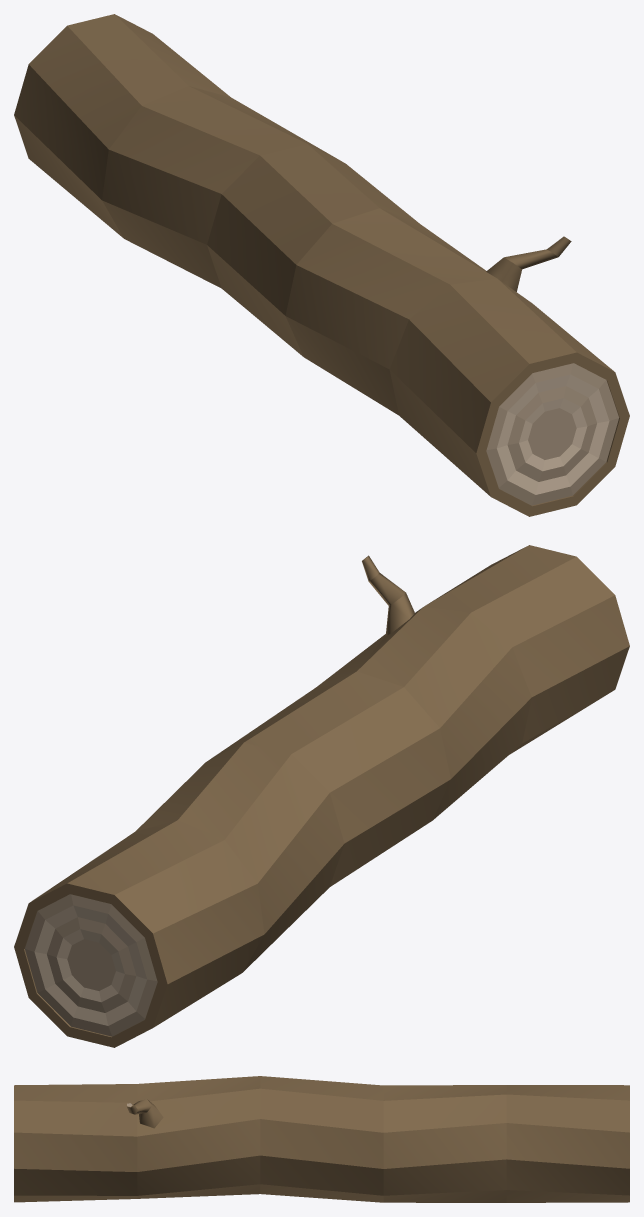
Rendered from trunk.glb.
3 views of the same model, one above another, from view 1: azimuth 30°, elevation 25°; view 2: azimuth 150°, elevation 25°; view 3: azimuth 270°, elevation 25° (orthographic). The views are drawn at different scales.
Visible parts, largest first — view 1: Material2 (×3); view 2: Material2 (×3); view 3: Material2.
Boxes of the visible parts, x1=… form: Material2 (×3): x1=14, y1=14, x2=629, y2=516; Material2 (×3): x1=14, y1=545, x2=629, y2=1047; Material2: x1=14, y1=1076, x2=629, y2=1202.
Size of the model in its own units: 21.66 by 21.36 by 92.95.
